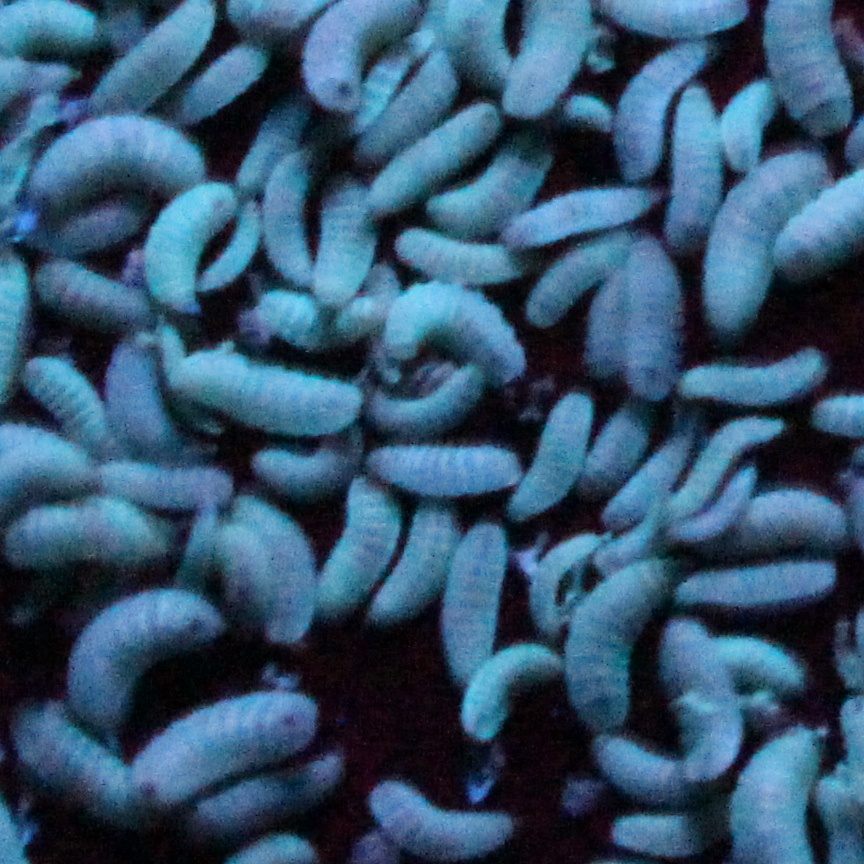larve: (710, 165, 826, 331), (69, 589, 224, 713), (567, 553, 669, 726), (141, 695, 313, 790), (96, 0, 221, 118), (175, 349, 356, 429), (379, 284, 522, 383), (102, 339, 206, 464), (359, 777, 512, 859), (620, 39, 708, 181), (378, 107, 500, 206), (233, 494, 314, 643), (1, 498, 168, 570), (26, 706, 135, 813), (28, 120, 212, 182), (438, 517, 509, 677), (322, 466, 395, 614), (672, 422, 789, 514), (29, 345, 124, 458), (146, 191, 235, 308), (669, 619, 730, 785), (505, 185, 663, 247), (535, 222, 633, 317), (515, 396, 589, 519), (366, 51, 452, 155), (377, 507, 455, 620), (429, 151, 554, 221), (460, 640, 545, 737), (194, 758, 338, 815), (677, 347, 823, 403), (368, 441, 521, 494), (672, 560, 836, 606), (357, 33, 436, 126), (376, 364, 478, 436), (633, 237, 679, 394), (254, 433, 374, 491), (404, 222, 523, 280), (667, 90, 712, 242), (607, 442, 687, 527), (263, 147, 312, 284), (317, 181, 372, 301), (41, 264, 152, 323), (728, 490, 840, 547), (185, 38, 269, 113), (233, 98, 309, 179), (526, 537, 594, 627), (21, 204, 149, 251), (93, 463, 231, 505), (672, 468, 758, 535), (712, 637, 808, 693), (589, 398, 644, 493), (605, 745, 689, 803), (215, 520, 263, 613), (256, 293, 329, 353), (204, 205, 259, 284), (585, 260, 626, 365), (728, 75, 767, 168), (612, 817, 700, 849), (191, 497, 216, 578)
